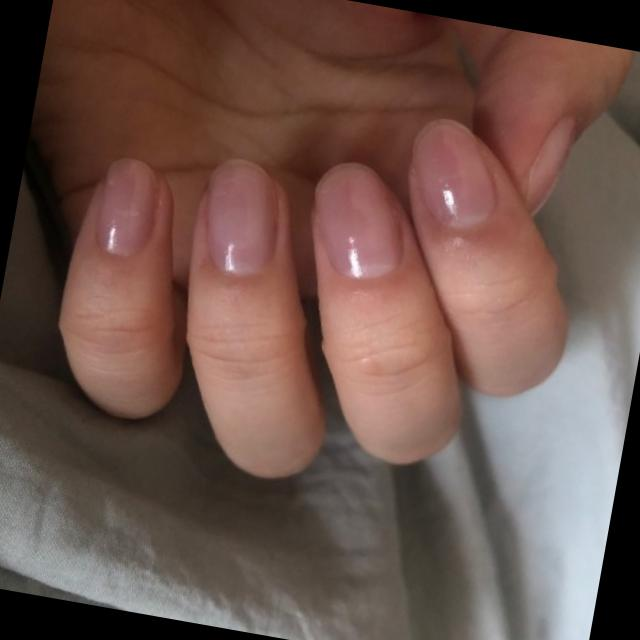Nail: (314, 161, 399, 282), (412, 116, 496, 230), (207, 159, 273, 281), (96, 153, 157, 258), (523, 117, 575, 214)
